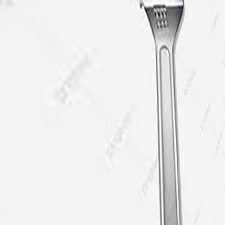Wrench: (133, 1, 203, 225)
